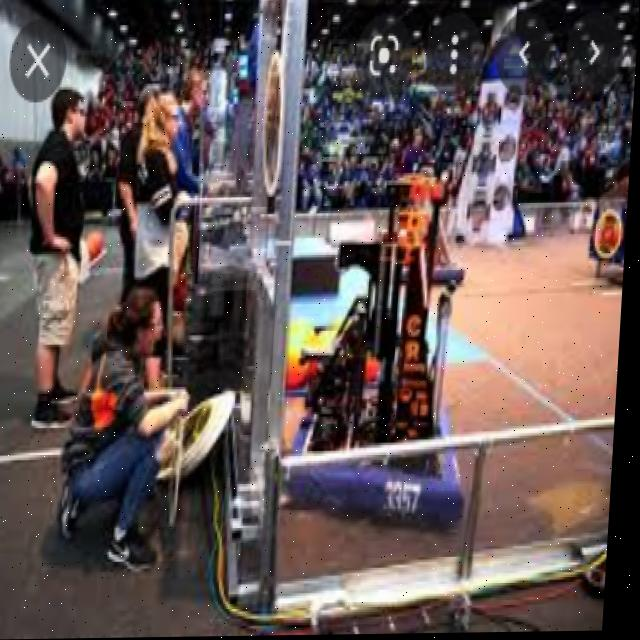robot: (287, 151, 487, 533)
